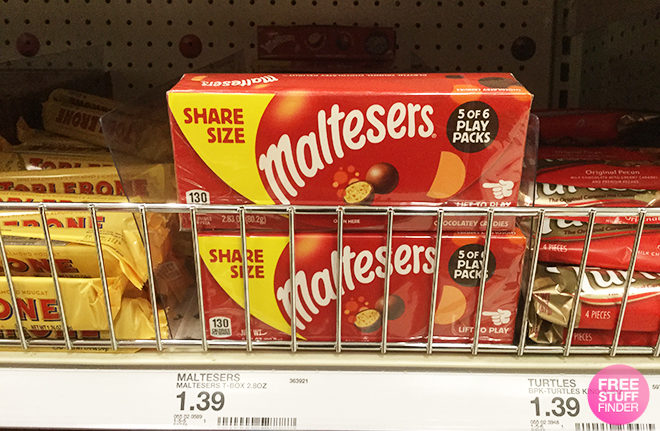Malteasers: (166, 92, 525, 229), (195, 237, 519, 349)
